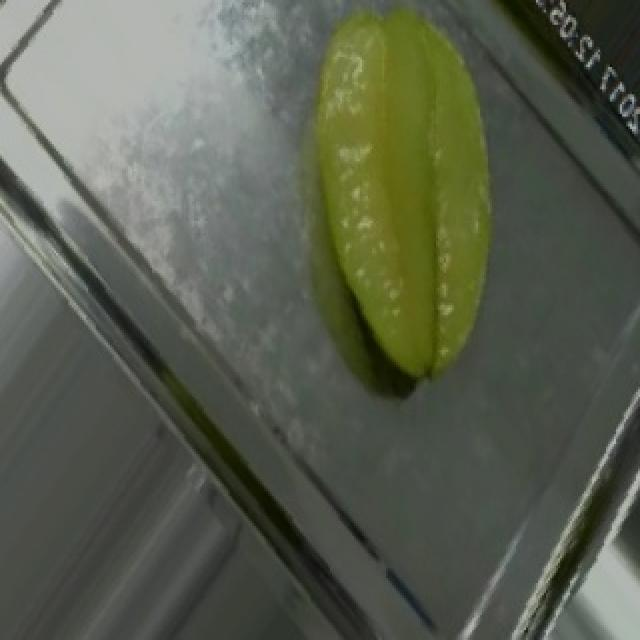fruit: (238, 0, 582, 330)
